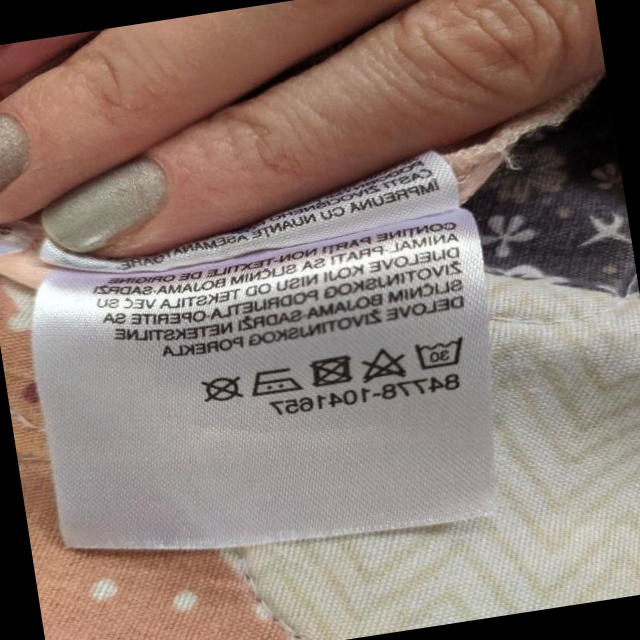30C: (408, 331, 469, 375)
DN_bleach: (359, 342, 408, 386)
DN_dry_clean: (198, 372, 246, 407)
DN_tumble_dry: (306, 352, 357, 393)
iron_medium: (245, 361, 303, 400)
